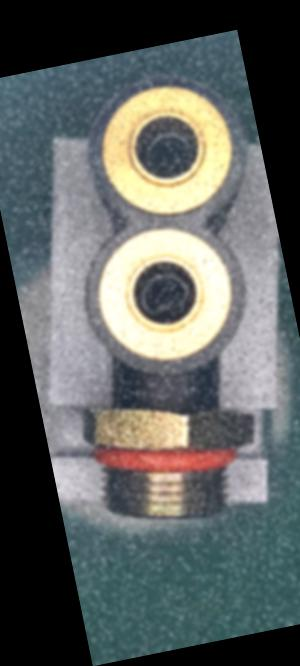off-centered: (137, 118, 202, 186), (133, 265, 200, 322)
